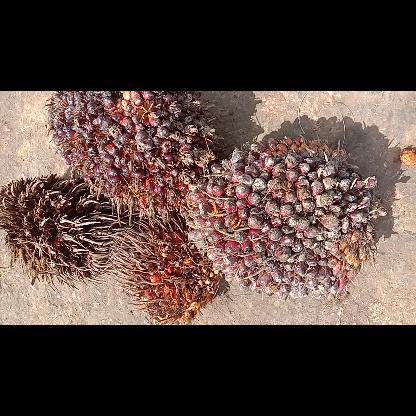Janjang kosong: (0, 172, 132, 292)
Kurang masak: (188, 134, 384, 300)
TBS masak: (42, 92, 228, 224)
Terlalu masak: (105, 212, 227, 324)
